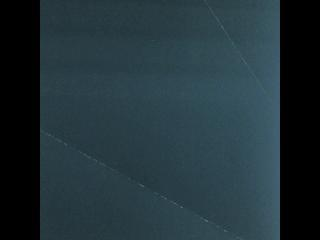crack: (41, 128, 243, 240), (201, 0, 280, 111)
